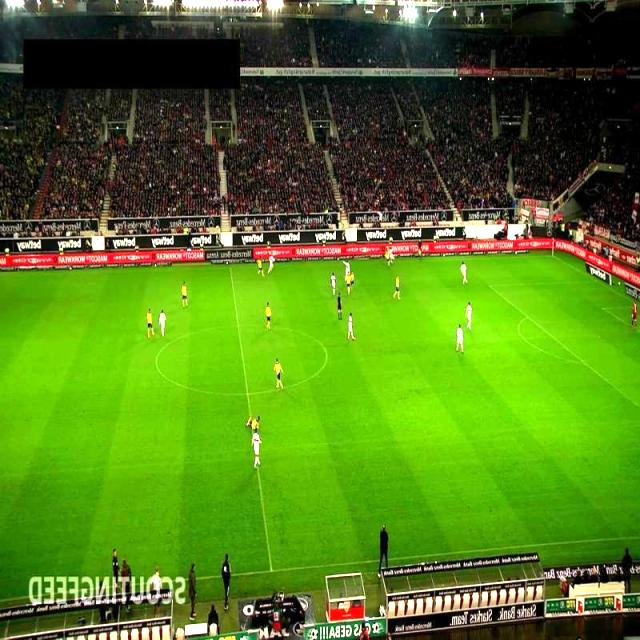bigarea_top_inner: (484, 280, 494, 290)
bigarea_top_outter: (588, 273, 599, 284)
bottom_arc_area_intersection: (578, 356, 589, 366)
corner: (546, 250, 556, 260)
halfcircle_bottom: (242, 389, 252, 400)
halfcircle_top: (232, 321, 244, 332)
midline_bottom_intersection: (264, 563, 280, 579)
midline_top_intersection: (225, 262, 236, 273)
smallarea_top_inner: (597, 302, 608, 313)
top_arc_area_intersection: (522, 310, 532, 320)
